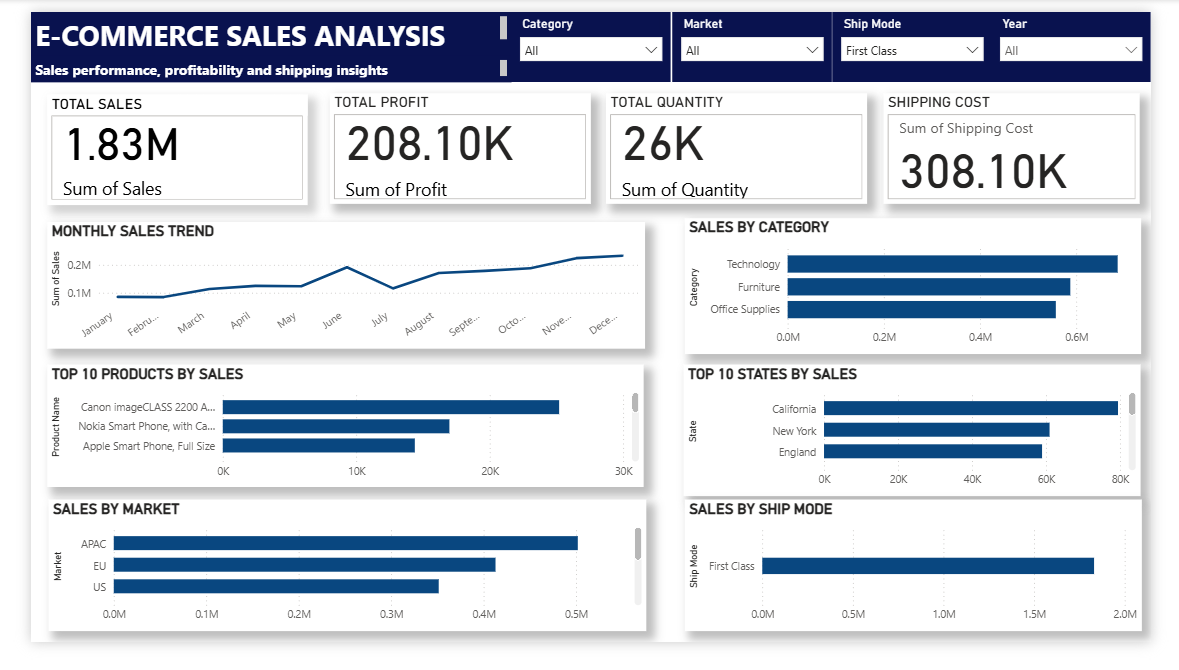

Layout of this report page (visuals, bound fields, positions):
{"tool":"powerbi","page":{"name":"Sales Report","canvas":[1280,720],"ordinal":0},"visuals":[{"type":"textbox","box":[0,0,548.8,50],"z":0},{"type":"textbox","box":[0,50,548.8,30],"z":1000},{"type":"slicer","fields":{"Values":["Orders.Category"]},"box":[548.8,0,182.5,80],"z":2000},{"type":"slicer","fields":{"Values":["Orders.Market"]},"box":[732.5,0,182.5,80],"z":3000},{"type":"slicer","fields":{"Values":["Orders.Ship Mode"]},"box":[915,0,182.5,80],"z":4000},{"type":"slicer","fields":{"Values":["Orders.Order Date.Variation.Date Hierarchy.Year"]},"box":[1097.5,0,182.5,80],"z":5000},{"type":"cardVisual","title":"TOTAL SALES","fields":{"Data":["Sum(Orders.Sales)"]},"box":[18.7,94,297.3,126],"z":6000},{"type":"cardVisual","title":"TOTAL PROFIT","fields":{"Data":["Sum(Orders.Profit)"]},"box":[342,93.3,298,126.7],"z":7000},{"type":"cardVisual","title":"TOTAL QUANTITY","fields":{"Data":["Sum(Orders.Quantity)"]},"box":[656.7,93.3,298,126.7],"z":8000},{"type":"cardVisual","title":"SHIPPING COST","fields":{"Data":["Sum(Orders.Shipping Cost)"]},"box":[974.8,92.9,293.2,126.7],"z":9000},{"type":"lineChart","title":"MONTHLY SALES TREND","fields":{"Y":["Sum(Orders.Sales)"],"Category":["Orders.Order Date.Variation.Date Hierarchy.Month"]},"box":[18.3,240,683.3,145],"z":10000},{"type":"clusteredBarChart","title":"SALES BY CATEGORY","fields":{"Category":["Orders.Category"],"Y":["Sum(Orders.Sales)"]},"box":[746.8,235.3,521.7,155],"z":11000},{"type":"clusteredBarChart","title":"TOP 10 PRODUCTS BY SALES","fields":{"Category":["Orders.Product Name"],"Y":["Sum(Orders.Sales)"]},"box":[18.6,402.9,681.4,140],"z":12000},{"type":"clusteredBarChart","title":"SALES BY MARKET","fields":{"Category":["Orders.Market"],"Y":["Sum(Orders.Sales)"]},"box":[20,557.1,683,150],"z":13000},{"type":"clusteredBarChart","title":"TOP 10 STATES BY SALES","fields":{"Category":["Orders.State"],"Y":["Sum(Orders.Sales)"]},"box":[745.7,402.9,522,150],"z":13001},{"type":"clusteredBarChart","title":"SALES BY SHIP MODE","fields":{"Category":["Orders.Ship Mode"],"Y":["Sum(Orders.Sales)"]},"box":[747,557,522,150],"z":13002}]}

Visuals, with their boxes in screenshot pixels (x1, y1, x2, y2), scaled from the page's 1280x720 canvas onto the 1179x670 screenshot:
textbox: {"left": 0, "top": 0, "right": 505, "bottom": 47}
textbox: {"left": 0, "top": 47, "right": 505, "bottom": 74}
slicer - Orders.Category: {"left": 505, "top": 0, "right": 674, "bottom": 74}
slicer - Orders.Market: {"left": 675, "top": 0, "right": 843, "bottom": 74}
slicer - Orders.Ship Mode: {"left": 843, "top": 0, "right": 1011, "bottom": 74}
slicer - Orders.Order Date.Variation.Date Hierarchy.Year: {"left": 1011, "top": 0, "right": 1178, "bottom": 74}
"TOTAL SALES" cardVisual: {"left": 17, "top": 87, "right": 291, "bottom": 205}
"TOTAL PROFIT" cardVisual: {"left": 315, "top": 87, "right": 590, "bottom": 205}
"TOTAL QUANTITY" cardVisual: {"left": 605, "top": 87, "right": 879, "bottom": 205}
"SHIPPING COST" cardVisual: {"left": 898, "top": 86, "right": 1168, "bottom": 204}
"MONTHLY SALES TREND" lineChart: {"left": 17, "top": 223, "right": 646, "bottom": 358}
"SALES BY CATEGORY" clusteredBarChart: {"left": 688, "top": 219, "right": 1168, "bottom": 363}
"TOP 10 PRODUCTS BY SALES" clusteredBarChart: {"left": 17, "top": 375, "right": 645, "bottom": 505}
"SALES BY MARKET" clusteredBarChart: {"left": 18, "top": 518, "right": 648, "bottom": 658}
"TOP 10 STATES BY SALES" clusteredBarChart: {"left": 687, "top": 375, "right": 1168, "bottom": 515}
"SALES BY SHIP MODE" clusteredBarChart: {"left": 688, "top": 518, "right": 1169, "bottom": 658}
